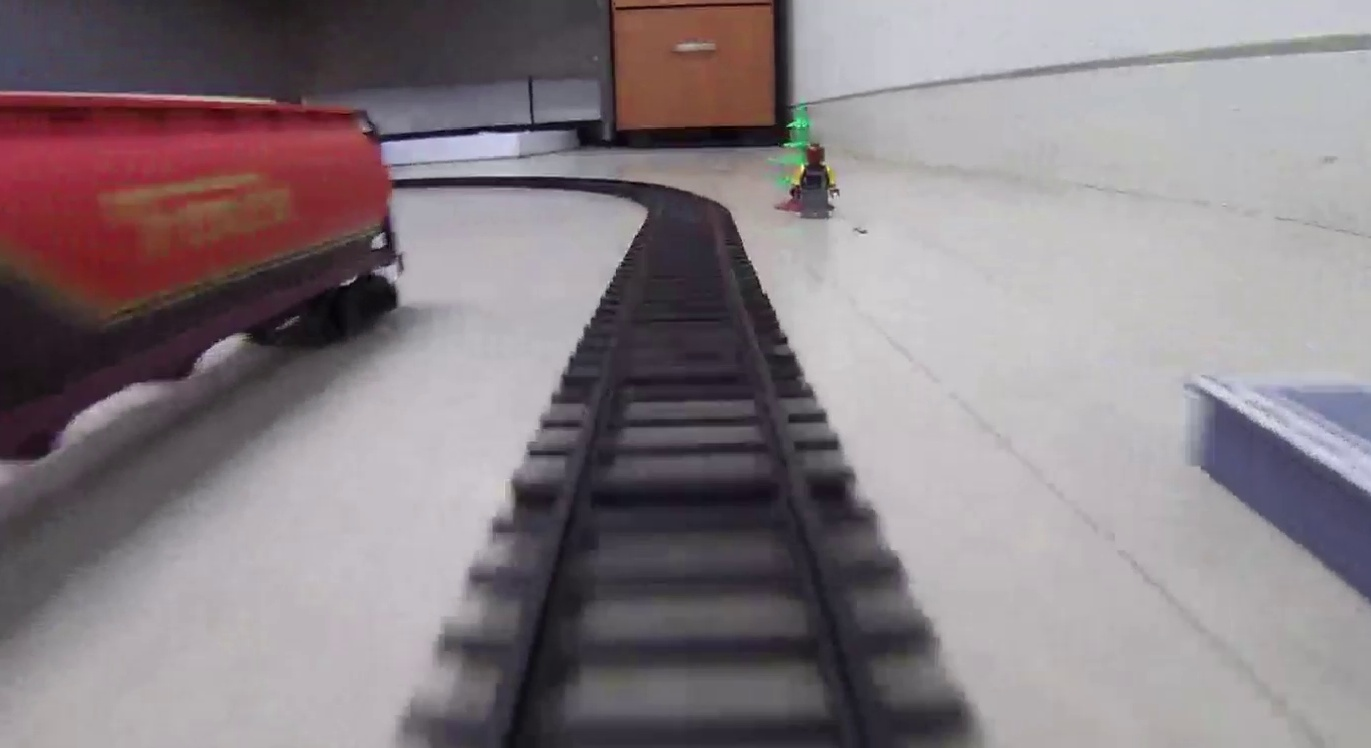people: (794, 142, 842, 219)
